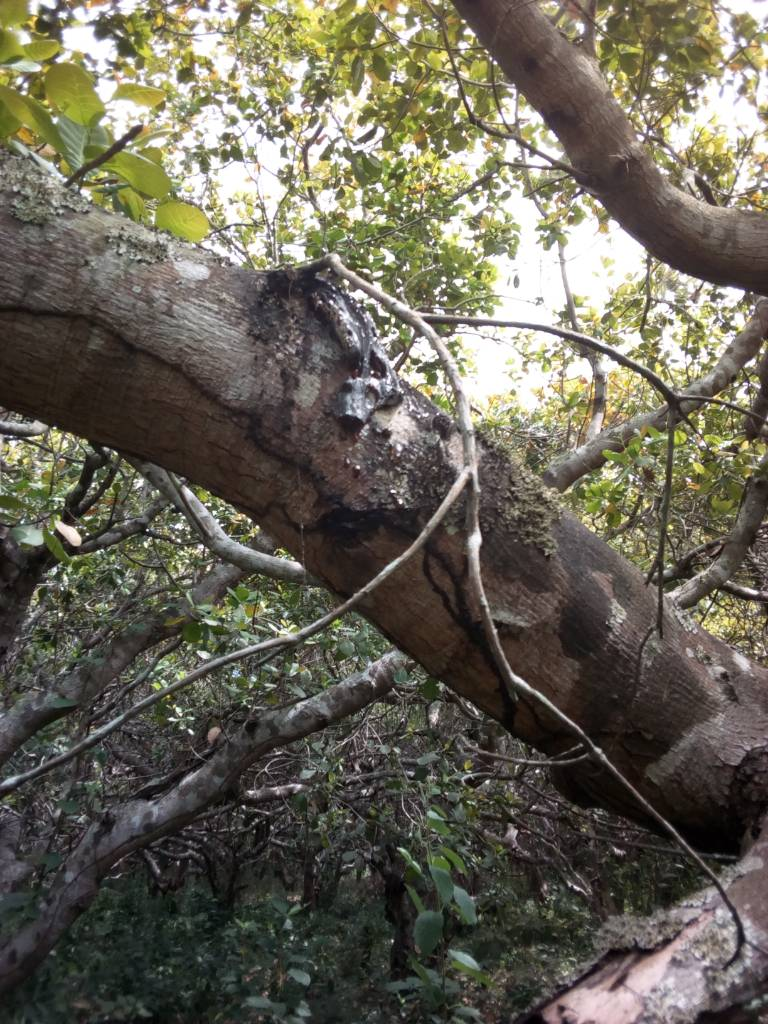Termites: (13, 302, 377, 482)
